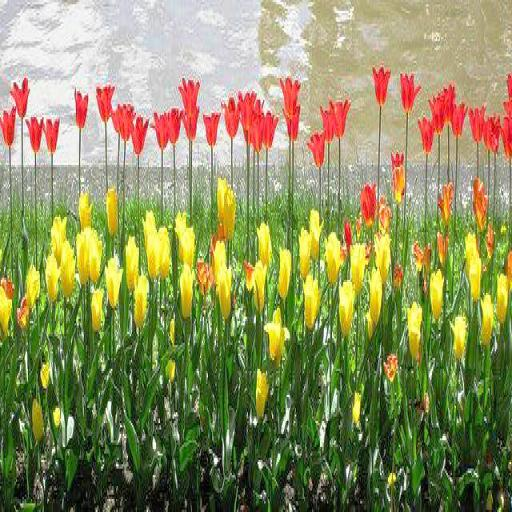tulip: (276, 232, 294, 308), (180, 78, 199, 145), (214, 252, 232, 321), (176, 215, 197, 271), (325, 224, 343, 288), (58, 238, 76, 302), (406, 295, 424, 358), (267, 306, 287, 362), (370, 60, 392, 110), (240, 80, 256, 146), (75, 226, 92, 288), (372, 232, 392, 284), (221, 180, 237, 245), (338, 274, 354, 338), (478, 291, 496, 347), (10, 67, 30, 117), (104, 252, 121, 310), (334, 89, 350, 150), (132, 104, 150, 158), (72, 80, 90, 132), (222, 91, 240, 143), (360, 178, 378, 230), (304, 271, 319, 332), (97, 76, 116, 124), (400, 67, 419, 113), (133, 269, 149, 323), (179, 260, 193, 321), (151, 102, 168, 152), (165, 102, 182, 152), (44, 108, 61, 158), (430, 265, 444, 325), (278, 76, 302, 111), (298, 221, 312, 278), (45, 249, 59, 306), (202, 106, 220, 150), (469, 252, 483, 308), (442, 74, 456, 130), (121, 89, 135, 145), (21, 269, 39, 312), (262, 104, 278, 152), (253, 258, 266, 317), (147, 221, 159, 284), (469, 98, 485, 145), (308, 126, 326, 167), (320, 94, 334, 146), (453, 310, 468, 358), (258, 221, 272, 271), (452, 93, 466, 143), (24, 115, 41, 154), (125, 239, 139, 286), (352, 241, 366, 288), (429, 85, 443, 132), (105, 182, 118, 232), (419, 111, 433, 156), (285, 104, 302, 139), (310, 206, 320, 254), (483, 108, 495, 148), (113, 98, 125, 136)
